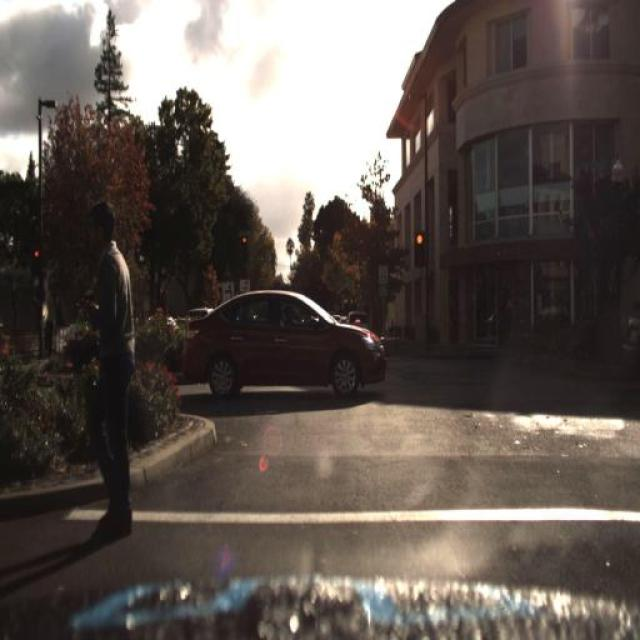car: (186, 289, 390, 415)
trafficLight: (80, 202, 134, 534), (449, 300, 458, 344)
trafficLight-Green: (30, 240, 42, 271)
trafficLight-RedLeft: (237, 230, 249, 270), (414, 228, 424, 268), (239, 222, 249, 253)
